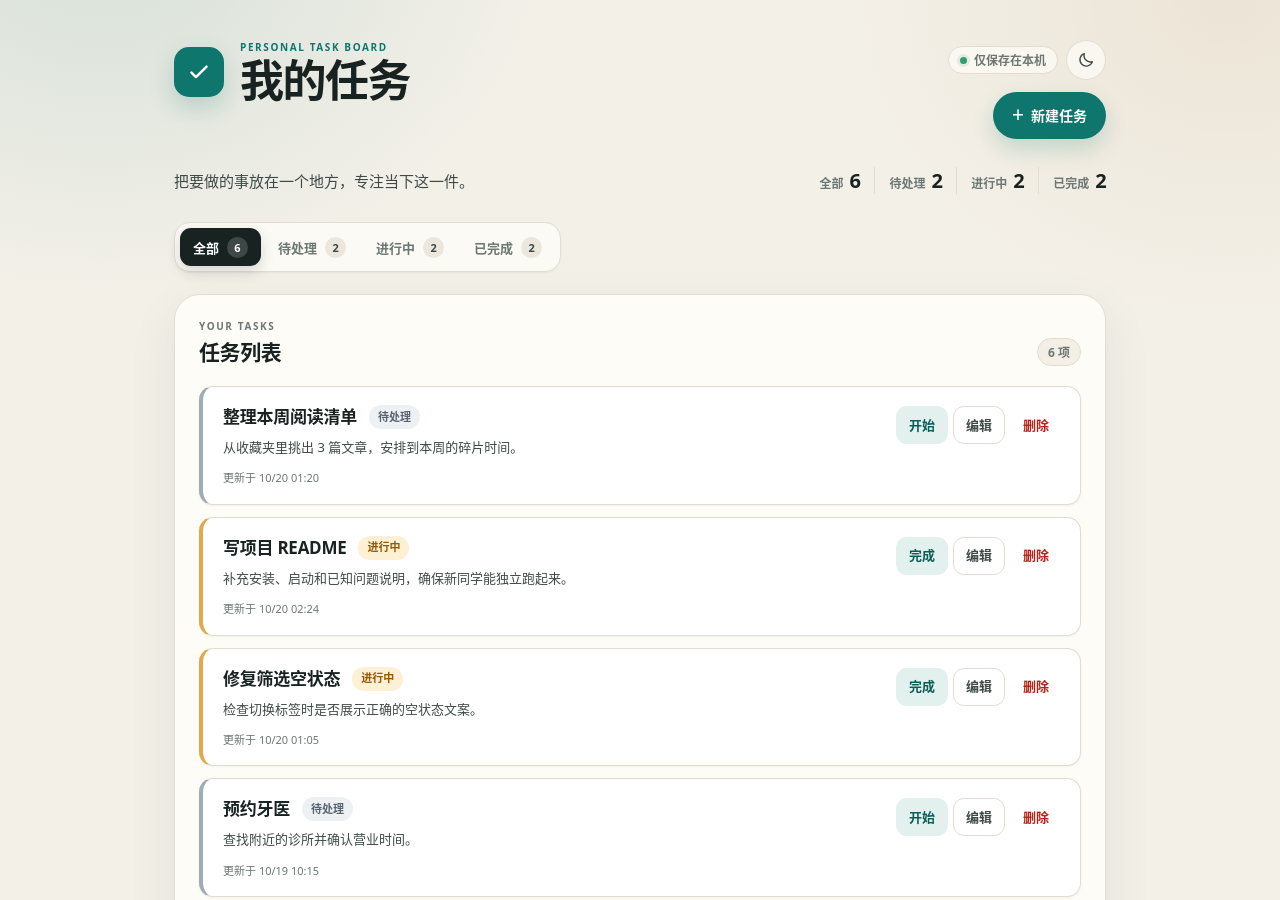
empty board and filters › counts and filters seeded tasks
Check: the button "全部 6" is shown, box [180,228,261,266]
Check: the button "待处理 2" is shown, box [265,228,359,266]
Click the button "进行中 2": (410, 247) [363,228,457,266]
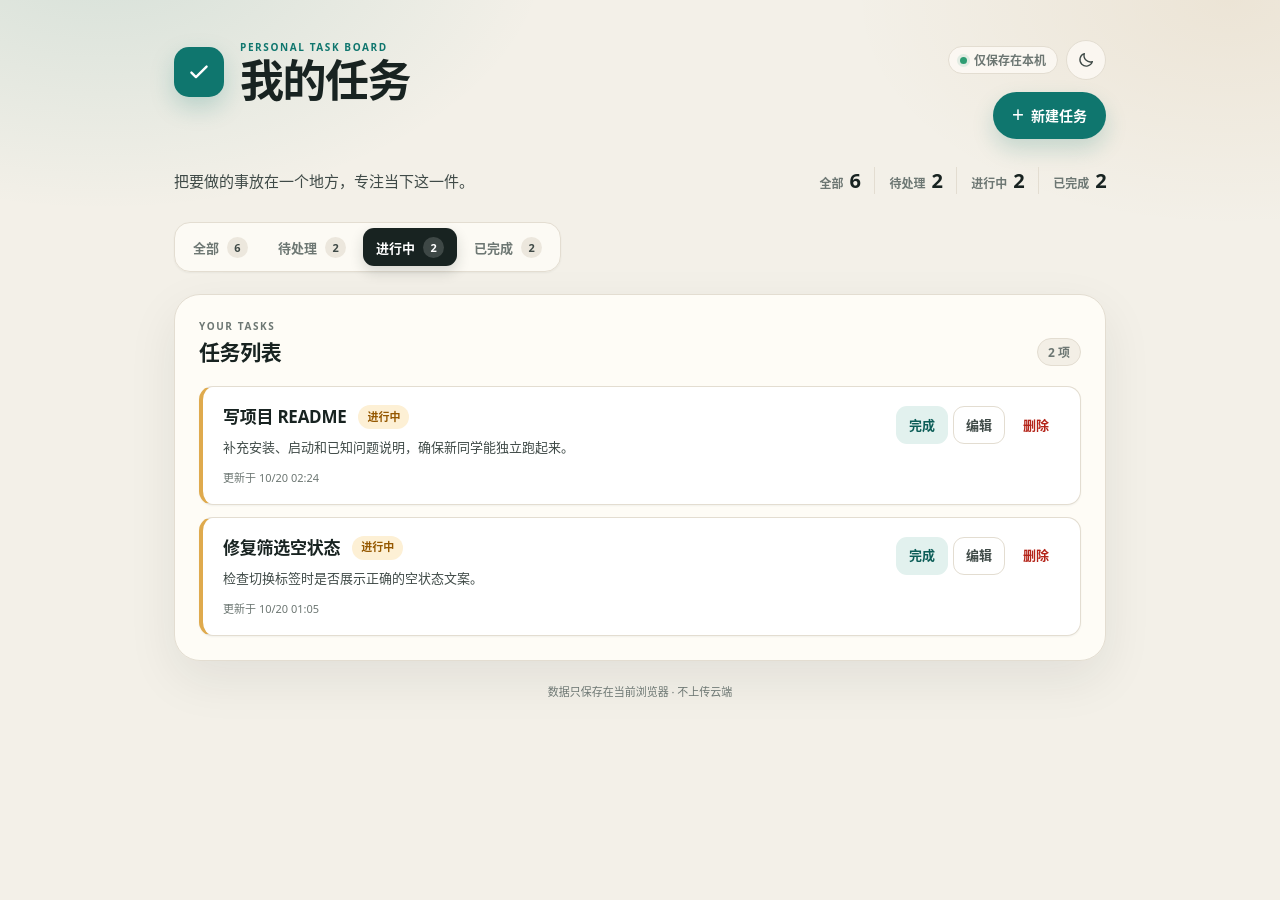
Check: the number of list items is 2, box [199,386,1081,505]; [199,517,1081,636]
Check: the heading "整理本周阅读清单" is gone
